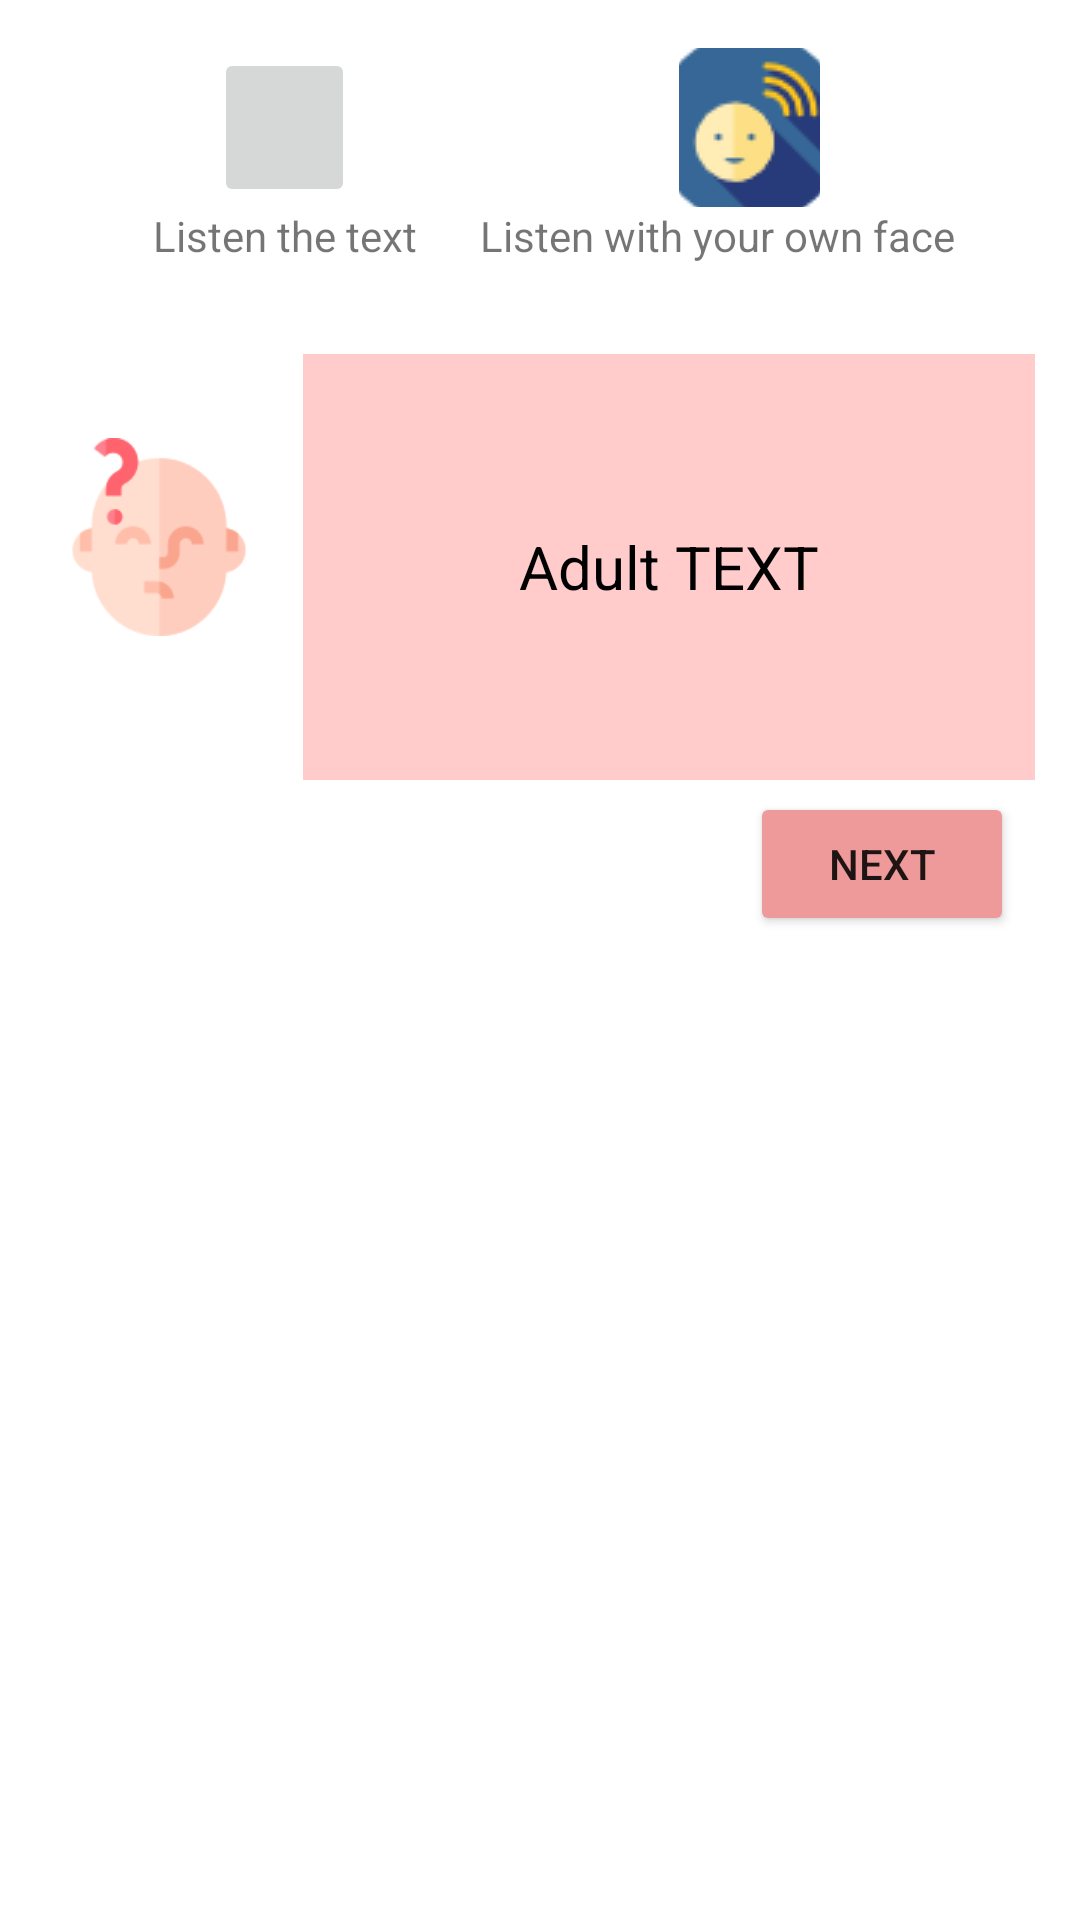

Screen size 1080×1920. Icon name, then its center in pixels as [x,y]:
exercise question: [159,537]
listen adult own voice: [749,127]
